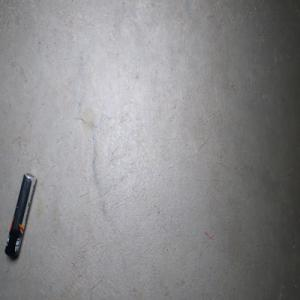Battery: (4, 172, 36, 258)
